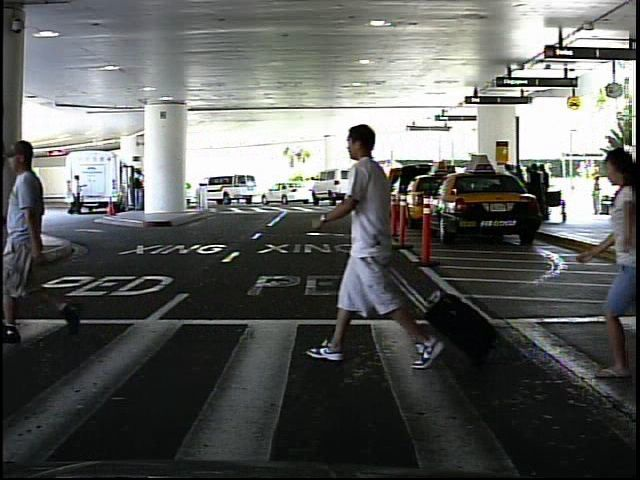person: (333, 110, 431, 376), (588, 172, 607, 218), (67, 172, 85, 217)
